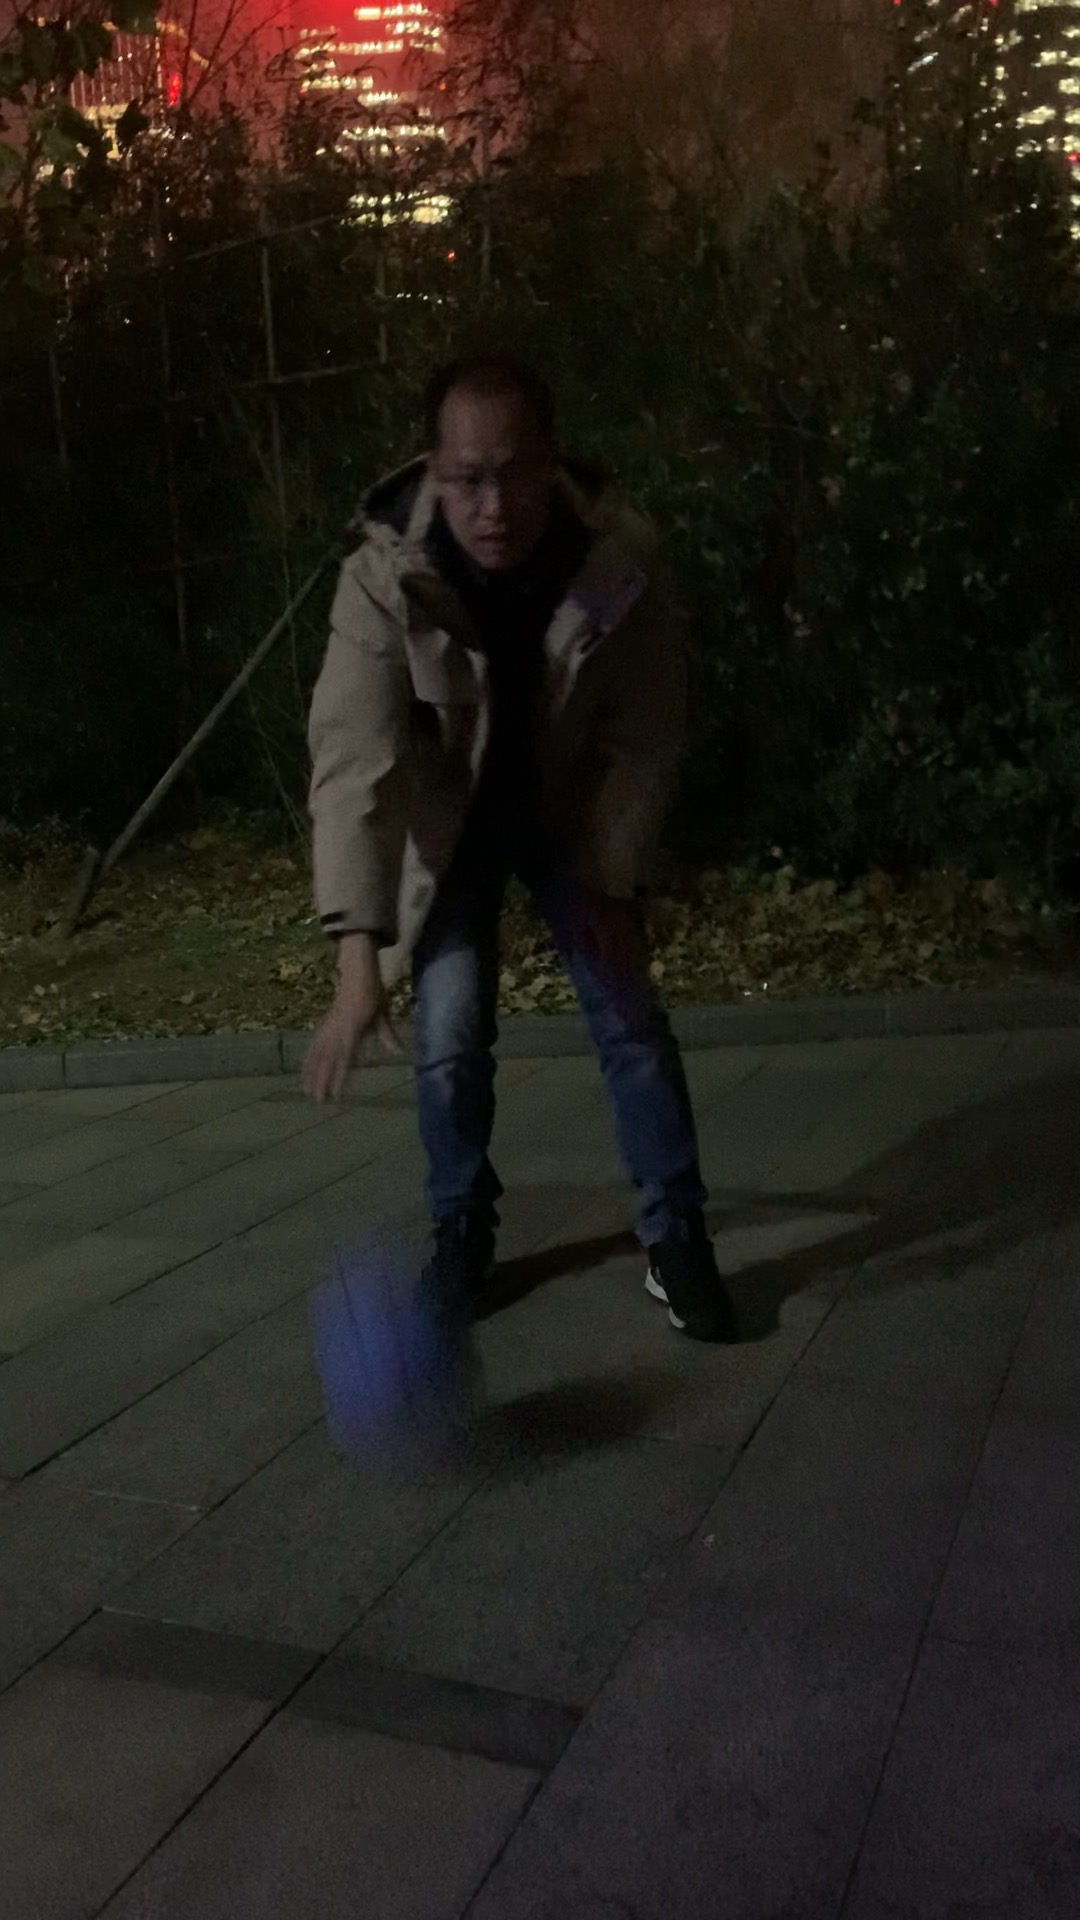ball: (318, 1300, 491, 1456)
